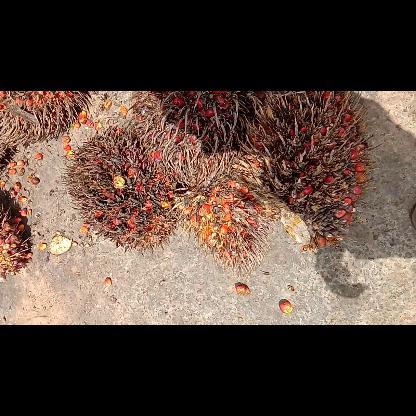Terlalu masak: (240, 90, 382, 252), (56, 120, 186, 256), (124, 91, 264, 187), (169, 171, 285, 275)
